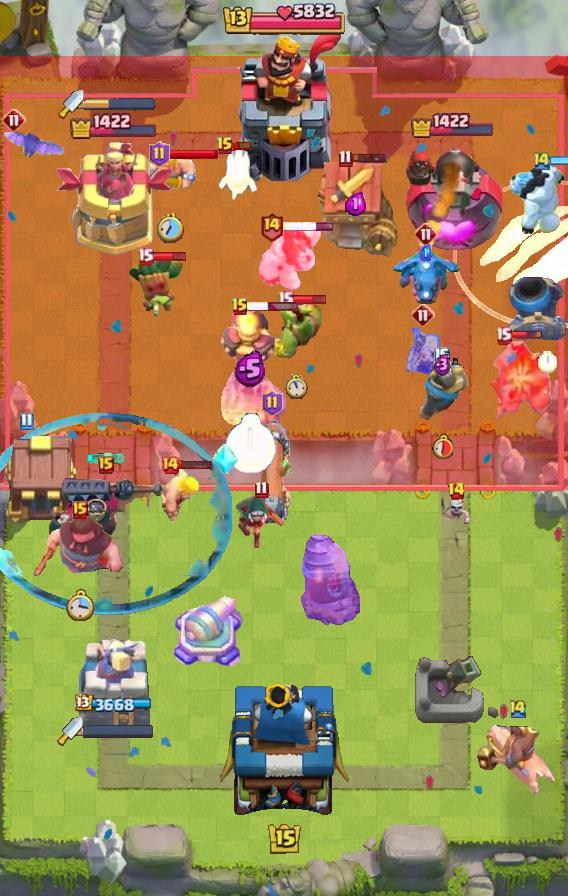archer: (142, 150, 198, 194), (160, 465, 202, 521)
arrows: (404, 328, 445, 376)
bar: (54, 142, 173, 256), (77, 637, 151, 731)
barbarian: (0, 130, 64, 160)
bat: (217, 143, 257, 201)
battle-healer: (248, 418, 296, 530)
bomb: (0, 432, 80, 526)
cannoneer-tower: (473, 340, 553, 426)
clock: (221, 0, 347, 40)
electro-dragon: (211, 308, 289, 434)
electro-spirit: (234, 350, 266, 388), (346, 192, 367, 216), (433, 352, 451, 376), (420, 244, 432, 260)
elixir: (224, 413, 277, 475), (66, 589, 94, 621), (157, 213, 184, 243), (285, 374, 308, 400), (431, 434, 453, 459), (539, 351, 558, 373)
emote: (167, 148, 219, 160), (281, 220, 334, 231), (247, 301, 299, 312), (351, 152, 388, 164), (153, 250, 188, 261), (293, 294, 328, 305), (178, 458, 213, 469), (509, 330, 543, 340), (232, 140, 252, 151), (550, 154, 568, 165)
firecracker: (416, 359, 468, 421)
flying-machine: (268, 299, 324, 359)
freeze: (476, 722, 560, 798)
goblin-barrel: (127, 253, 185, 319)
graveyard: (390, 244, 462, 306)
heal-spirit: (440, 494, 472, 528)
ice-spirit: (86, 452, 126, 464)
ice-wizard: (452, 179, 567, 329)
inferno-tower: (46, 476, 166, 552)
king-tower: (219, 678, 349, 826), (223, 31, 345, 181)
king-tower-bar: (84, 97, 156, 111), (83, 724, 155, 738)
magic-archer: (300, 534, 360, 626)
musketeer: (508, 276, 568, 340)
pad_0: (0, 412, 232, 616)
pad_2: (213, 444, 239, 476)
rage: (504, 164, 568, 240), (257, 224, 323, 292)
royal-hog: (32, 512, 128, 580)
royal-recruit: (170, 592, 246, 674)
selected: (69, 112, 159, 140), (410, 112, 496, 140), (74, 694, 154, 714)
sparky: (312, 161, 398, 259)
tesla: (236, 493, 286, 551)
text: (259, 210, 284, 241), (2, 108, 26, 132), (414, 222, 438, 246), (411, 303, 435, 327), (149, 141, 170, 167), (261, 390, 282, 416), (532, 149, 552, 170), (508, 698, 528, 719), (160, 455, 180, 475), (446, 481, 466, 501), (216, 136, 234, 156), (231, 297, 249, 317), (277, 290, 295, 309), (495, 327, 513, 345), (137, 246, 154, 265), (434, 347, 450, 365), (98, 456, 114, 474), (72, 501, 88, 519), (19, 413, 34, 431), (255, 481, 270, 499), (339, 148, 353, 167)
tower-bar: (404, 138, 505, 256)
